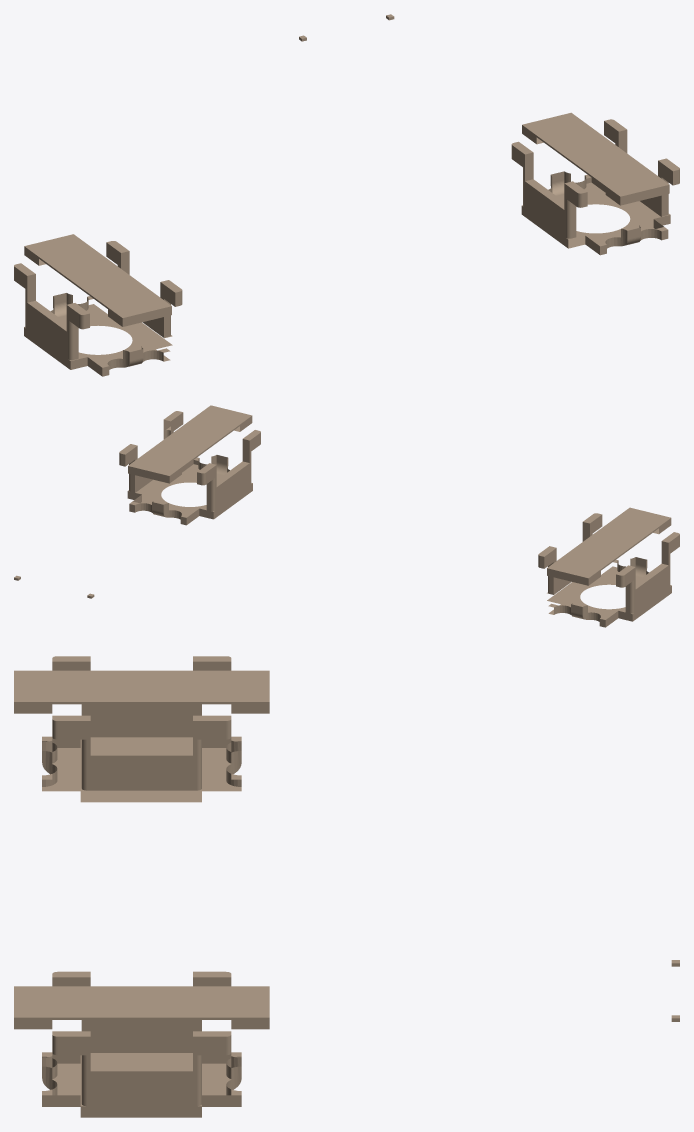
File: zatana_terra_base_vis_89.dae
3 renders of one model, top to bottom at view 1: azimuth 30°, elevation 25°; view 2: azimuth 150°, elevation 25°; view 3: azimuth 270°, elevation 25°, orthographic. The views are drawn at different scales.
Parts seen in each view (by area): view 1: Node_00000231837435E0; view 2: Node_00000231837435E0; view 3: Node_00000231837435E0.
Part boxes in pixels (x1=…): Node_00000231837435E0: x1=14, y1=14, x2=679, y2=376; Node_00000231837435E0: x1=14, y1=405, x2=679, y2=627; Node_00000231837435E0: x1=14, y1=656, x2=679, y2=1117.
Size of the model in its own units: 0.0176 by 0.0018 by 0.013.
